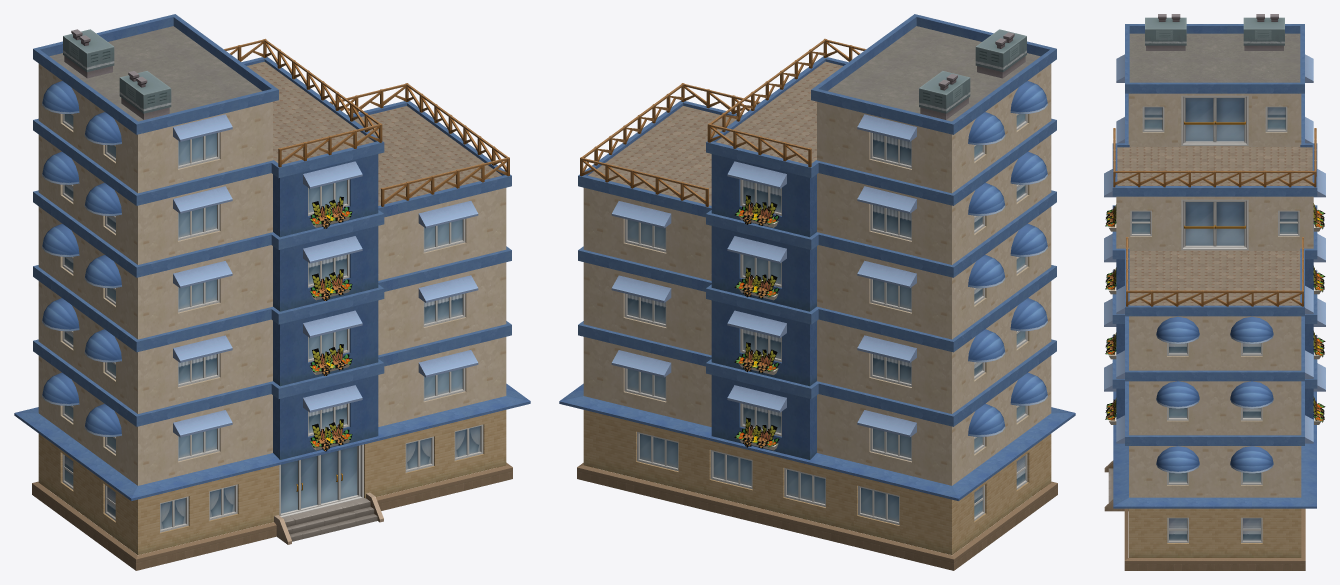
Rendered from Building_7.glb.
The picture shows the model from 3 angles, left to right: view 1: azimuth 30°, elevation 25°; view 2: azimuth 150°, elevation 25°; view 3: azimuth 270°, elevation 25°; orthographic projection. The views are drawn at different scales.
Visible parts, largest first — view 1: Building_7_Roof; view 2: Building_7_Roof; view 3: Building_7_Roof.
Boxes of the visible parts, x1,y1,x2,y2 form: Building_7_Roof: (14, 14, 530, 570); Building_7_Roof: (559, 14, 1075, 570); Building_7_Roof: (1104, 14, 1325, 570).
Size of the model in its own units: 16.78 by 18.25 by 9.01.
Materials: 14 (14 with a texture image).
